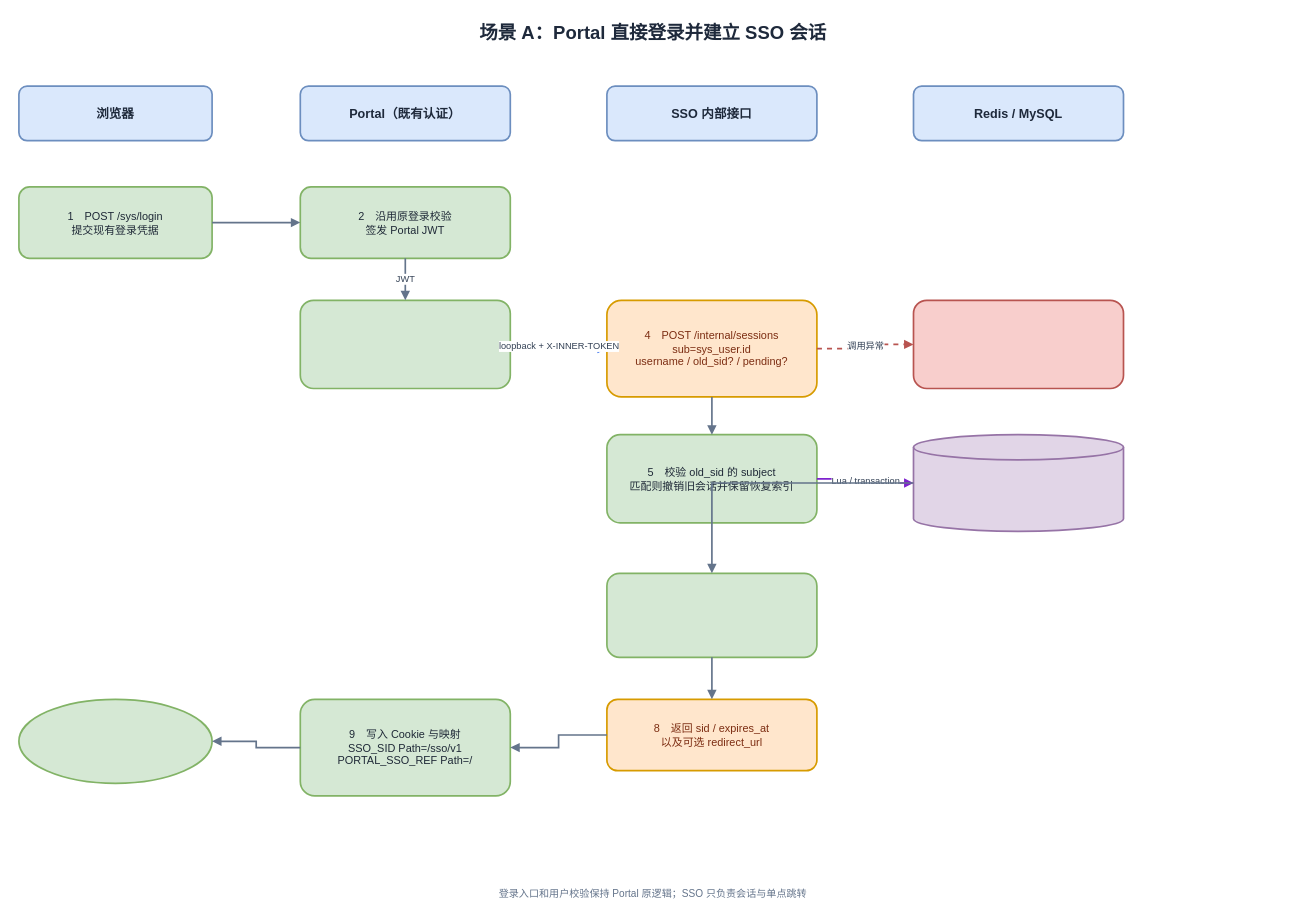
Image size: 1305x918. Some labels were removed from this diagram. Here are the shapes that lost their labels. From the top down, the centre of each, then its label:
At [405,344]: "3 恢复旧 SID JWT hash 映射优先 否则 PORTAL_SSO_REF".
At [1018,344]: "异常降级（当前实现） SSO beginSession 失败仅记录日志；Portal 本地登录仍成功。".
At [1018,482]: "6 原子创建新会话 检查 disabled barrier SET session + ZADD subject sessions".
At [711,615]: "7 pending? → GETDEL 生成一次性 code / redirect_url".
At [115,741]: "10 Portal 登录成功 若有 ssoRedirect 则跳回接入方".
